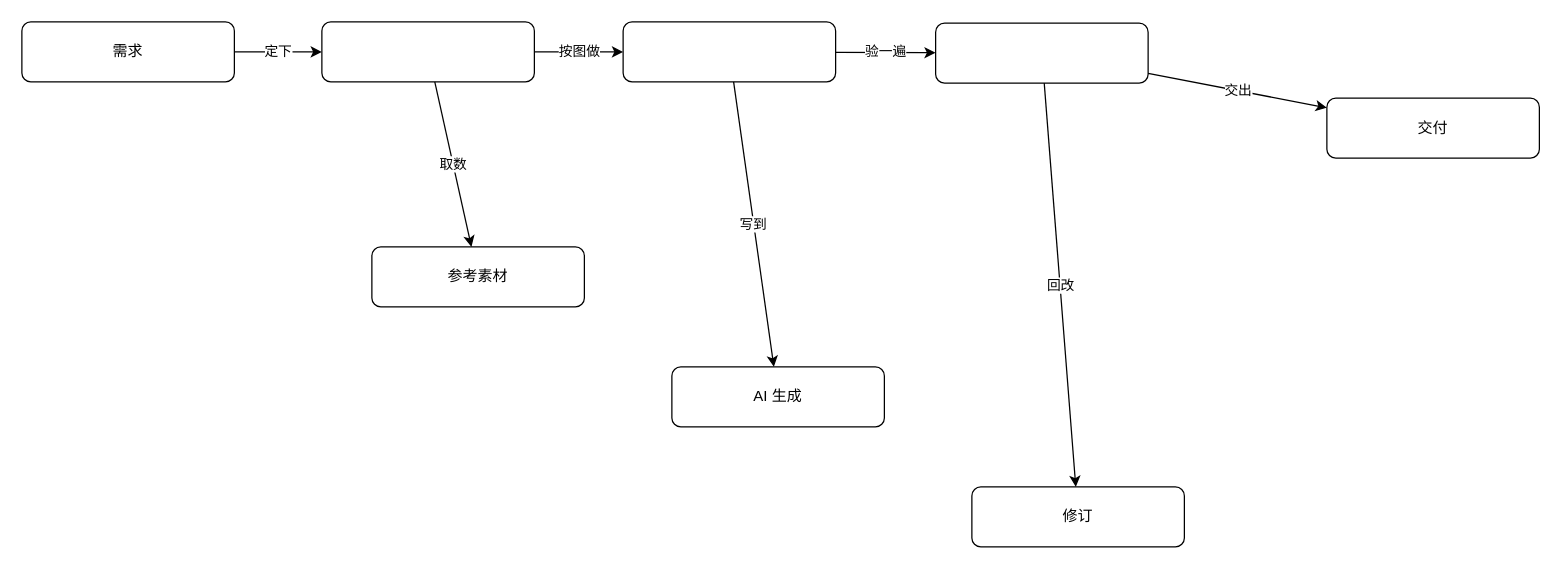
Image size: 1561x569. Some labels were removed from this diagram. Each missing label, with the centre of its shape:
制作: (729,51)
检查: (1041,52)
设计: (427,51)
